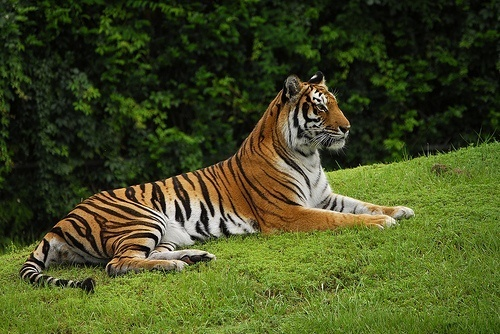tigre: (19, 71, 416, 294)
